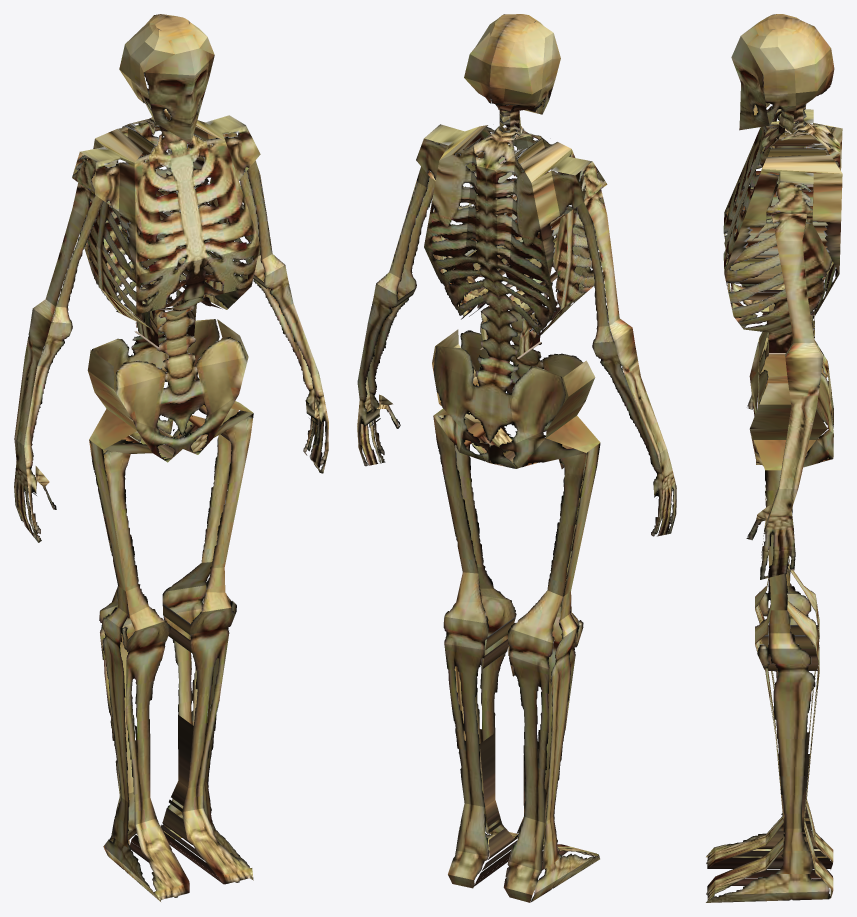
The model's file is SkeletonLessDirty.fbx.
3 views of the same model, side by side, from view 1: azimuth 30°, elevation 25°; view 2: azimuth 150°, elevation 25°; view 3: azimuth 270°, elevation 25° (orthographic).
Visible parts, largest first — view 1: Cube; view 2: Cube; view 3: Cube.
Part boxes in pixels (<box>): Cube: <box>14,14,328,901</box>; Cube: <box>357,14,676,902</box>; Cube: <box>706,14,842,902</box>.
Size of the model in its own units: 72.03 by 194 by 27.96.
1 material, 1 textured.
